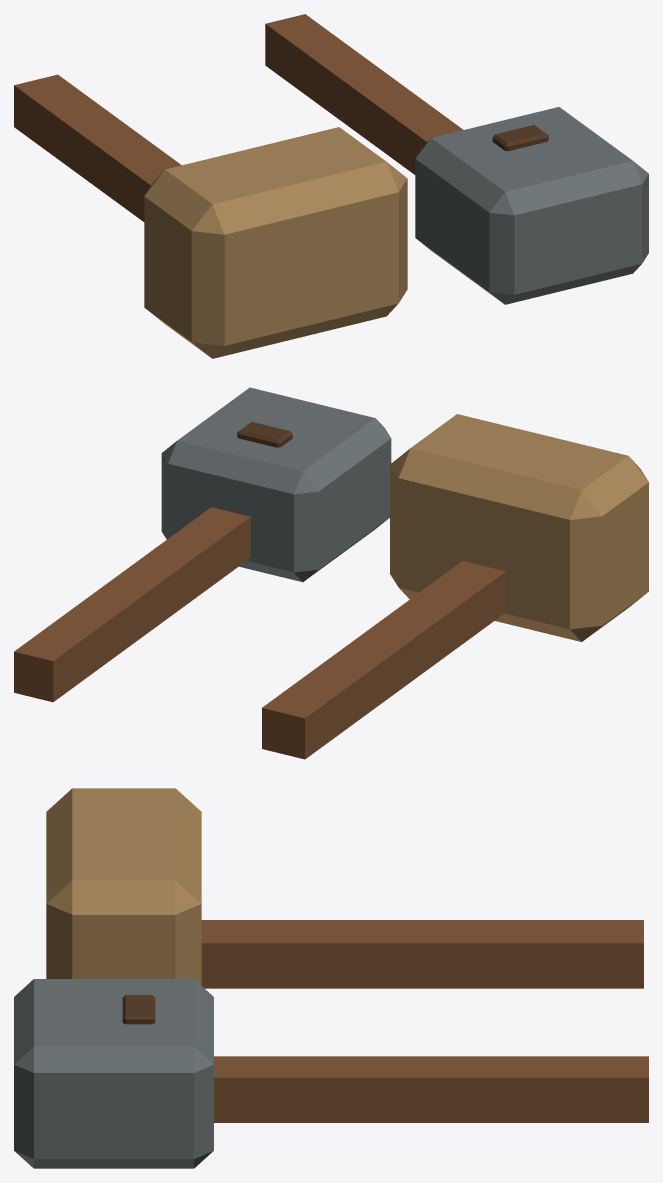
Rendered from carpentry_kit.glb.
3 views of the same model, one above another, from view 1: azimuth 30°, elevation 25°; view 2: azimuth 150°, elevation 25°; view 3: azimuth 270°, elevation 25° (orthographic). The views are drawn at different scales.
Visible parts, largest first — view 1: carpentry_kit; view 2: carpentry_kit; view 3: carpentry_kit.
Part boxes in pixels (box(x1,y1,x2,y2)): carpentry_kit: box(14, 14, 648, 358); carpentry_kit: box(14, 387, 648, 759); carpentry_kit: box(14, 788, 648, 1168).
Size of the model in its own units: 1.1 by 0.37 by 1.27.
